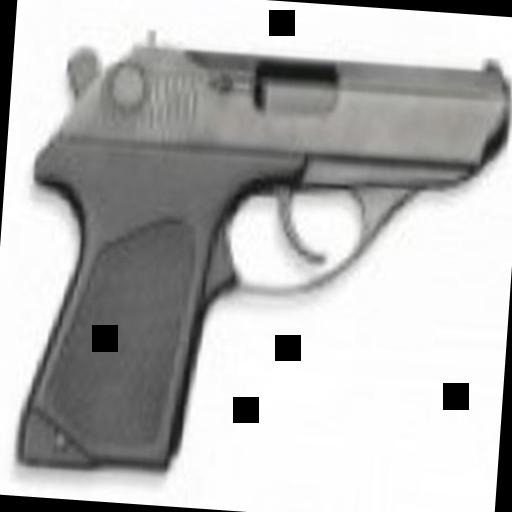Handgun: (6, 21, 512, 497)
